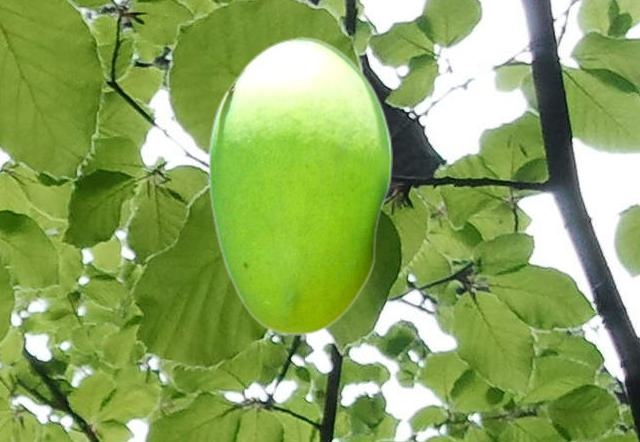green_mango: (207, 36, 391, 334)
